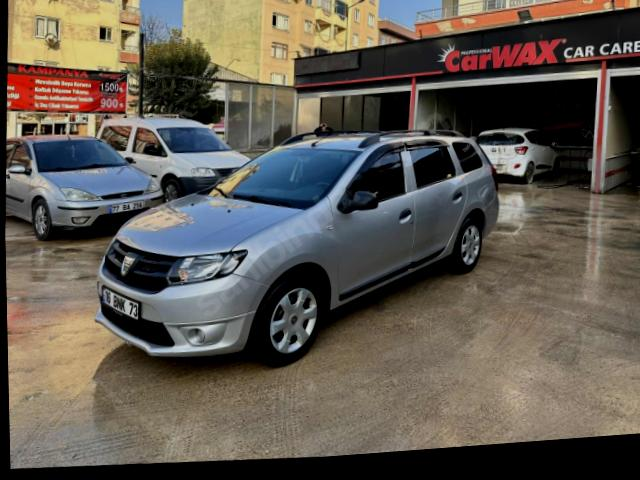plaka: (102, 288, 139, 319)
